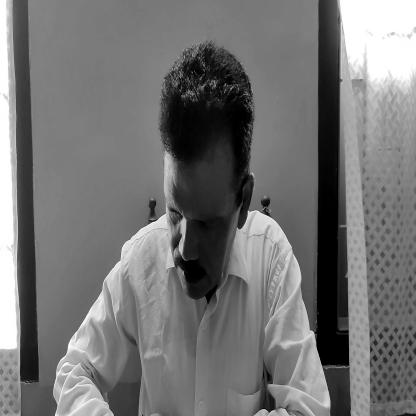Distracted: (160, 39, 254, 300)
